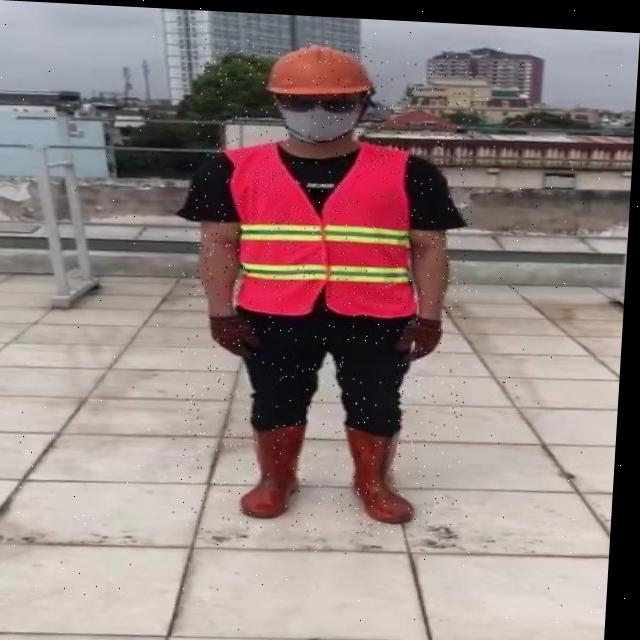Gloves: (210, 309, 265, 355), (396, 310, 446, 358)
Helmet: (263, 38, 377, 142)
Safety-Boot: (346, 420, 422, 519), (245, 412, 311, 516)
Safety-Vest: (217, 131, 429, 319)
